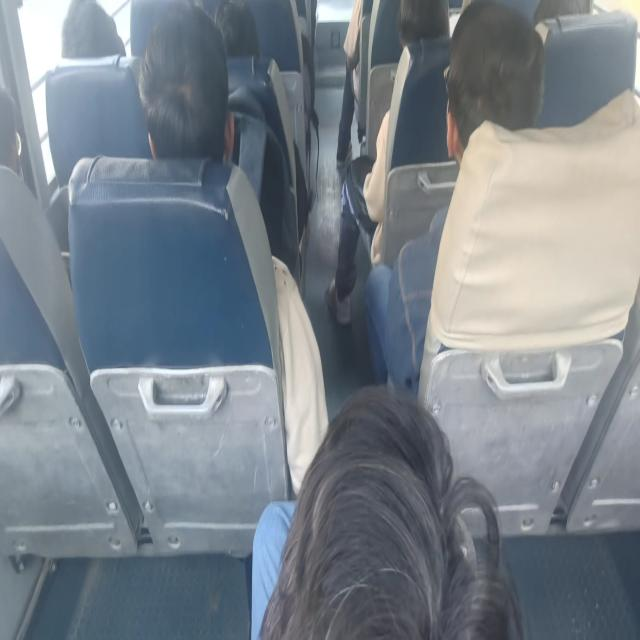person: (274, 386, 526, 640), (442, 20, 538, 155), (142, 17, 237, 149), (211, 0, 278, 69), (56, 3, 127, 59), (382, 0, 450, 49), (0, 94, 36, 182)
